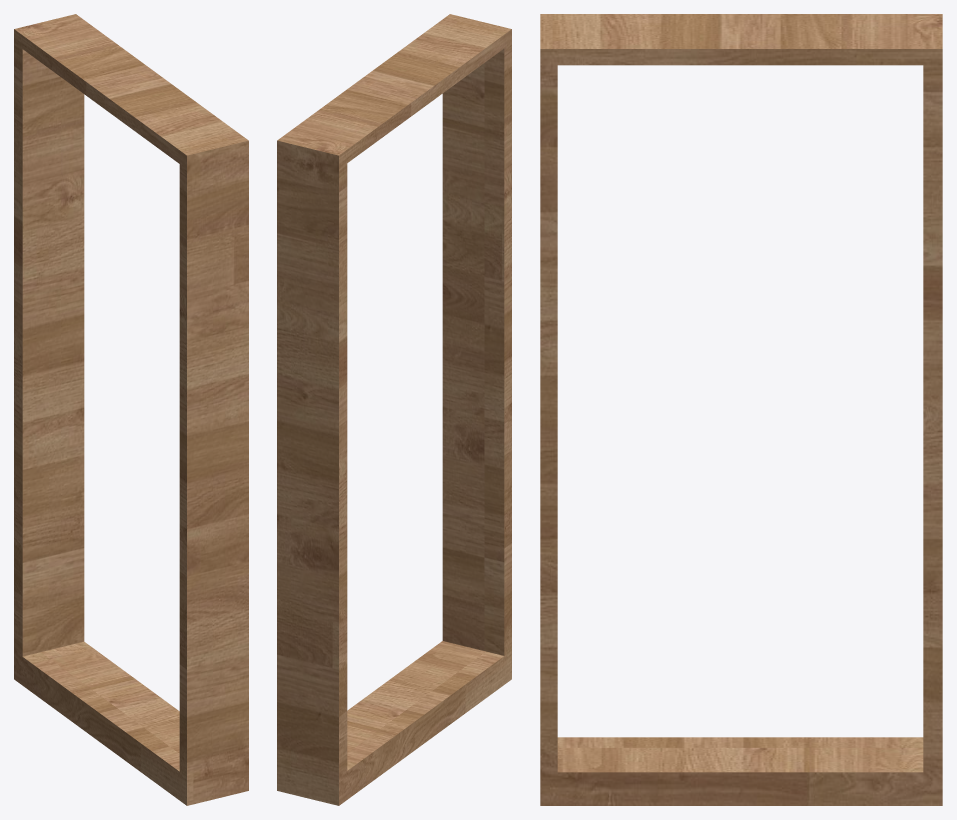
File: двернаярама.fbx
The picture shows the model from 3 angles, left to right: view 1: azimuth 30°, elevation 25°; view 2: azimuth 150°, elevation 25°; view 3: azimuth 270°, elevation 25°; orthographic projection. The views are drawn at different scales.
Parts seen in each view (by area): view 1: Cube; view 2: Cube; view 3: Cube.
Part boxes in pixels (<box>): Cube: <box>14,14,248,805</box>; Cube: <box>277,14,511,805</box>; Cube: <box>540,14,942,805</box>.
Size of the model in its own units: 28.91 by 290 by 140.
1 material, 1 textured.
